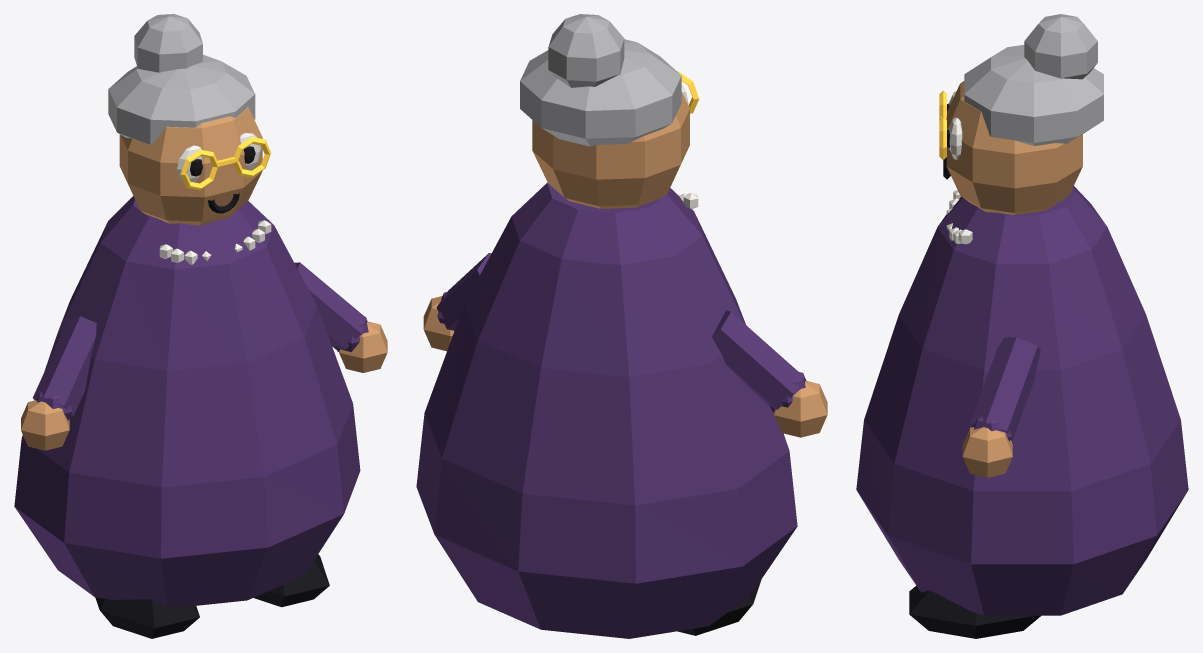
Rendered from npc_directora_museo.glb.
The picture shows the model from 3 angles, left to right: view 1: azimuth 30°, elevation 25°; view 2: azimuth 150°, elevation 25°; view 3: azimuth 270°, elevation 25°; orthographic projection. The views are drawn at different scales.
Visible parts, largest first — view 1: body_director_suit, head_hair_gray, head_skin_arena, arms_director_suit, legs_black, arms_skin_arena, face_gold, face_white, face_black; view 2: body_director_suit, head_hair_gray, head_skin_arena, arms_director_suit, arms_skin_arena, legs_black; view 3: body_director_suit, head_hair_gray, head_skin_arena, arms_director_suit, legs_black, arms_skin_arena, face_gold, face_white.
Part boxes in pixels (x1,y1,x2,y2): body_director_suit: (14, 196, 360, 607); head_hair_gray: (108, 14, 255, 144); head_skin_arena: (119, 107, 262, 225); arms_director_suit: (33, 262, 368, 420); legs_black: (95, 554, 329, 638); arms_skin_arena: (21, 321, 387, 450); face_gold: (180, 137, 270, 190); face_white: (177, 133, 261, 182); face_black: (190, 146, 255, 213); body_director_suit: (416, 182, 797, 638); head_hair_gray: (520, 14, 681, 146); head_skin_arena: (532, 92, 689, 208); arms_director_suit: (436, 253, 806, 412); arms_skin_arena: (423, 296, 827, 437); legs_black: (677, 579, 761, 635); body_director_suit: (856, 186, 1188, 615); head_hair_gray: (964, 14, 1103, 145); head_skin_arena: (946, 81, 1082, 214); arms_director_suit: (970, 337, 1040, 441); legs_black: (909, 585, 1040, 638); arms_skin_arena: (962, 427, 1012, 477); face_gold: (939, 91, 946, 159); face_white: (949, 91, 962, 159).
Size of the model in its own units: 1.13 by 1.66 by 0.86.
